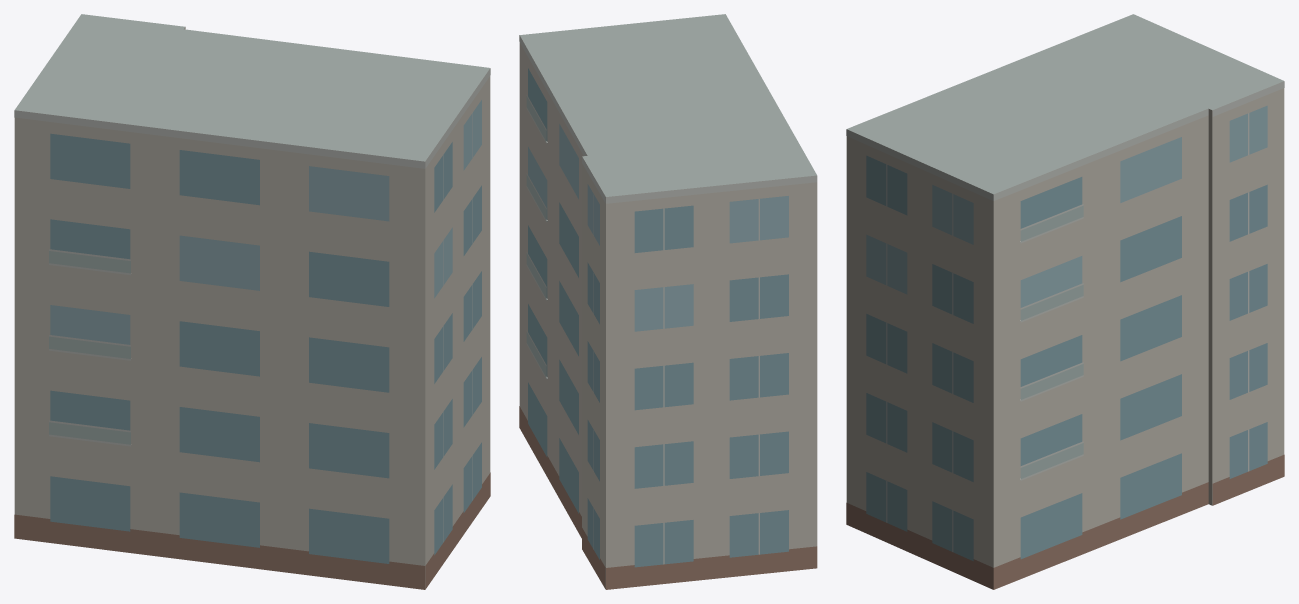
Rendered from survey-upis-32878899.glb.
3 renders of one model, left to right at view 1: azimuth 30°, elevation 25°; view 2: azimuth 150°, elevation 25°; view 3: azimuth 270°, elevation 25°, orthographic. The views are drawn at different scales.
Visible parts, largest first — view 1: survey-upis-32878899.tmp; view 2: survey-upis-32878899.tmp; view 3: survey-upis-32878899.tmp.
Part boxes in pixels (box(x1,y1,x2,y2)): survey-upis-32878899.tmp: box(14, 14, 490, 589); survey-upis-32878899.tmp: box(519, 14, 817, 589); survey-upis-32878899.tmp: box(846, 14, 1284, 589).
Size of the model in its own units: 13.9 by 14.2 by 14.26.
